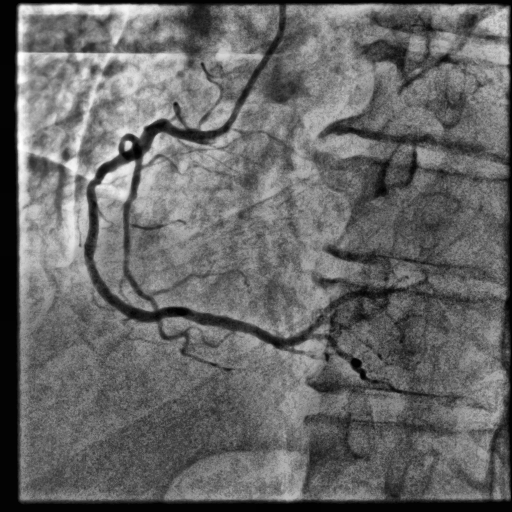pborca: (305, 292, 390, 332)
pda: (310, 334, 464, 398)
rca: (84, 120, 310, 346)
